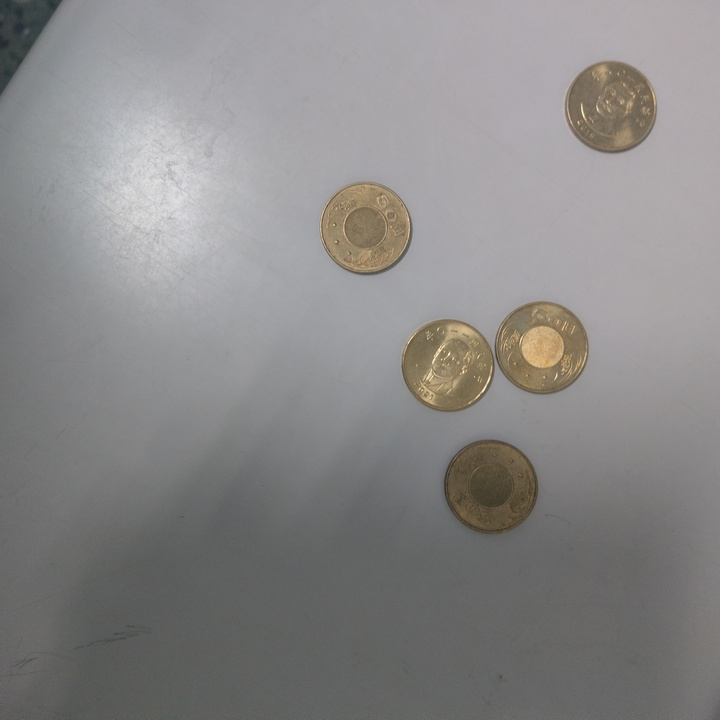50 dollar: (398, 315, 496, 416), (493, 299, 589, 397), (443, 438, 540, 533), (321, 180, 415, 278), (564, 61, 660, 154)
